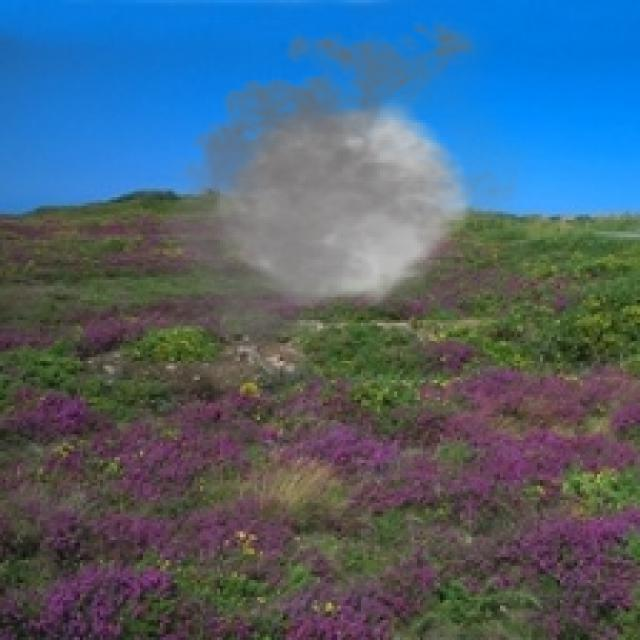smoke: (140, 12, 543, 357)
